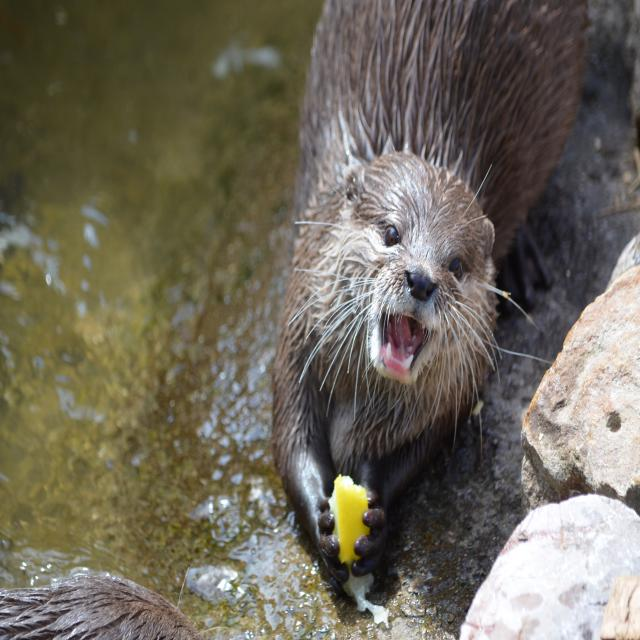otter: (272, 151, 500, 465)
